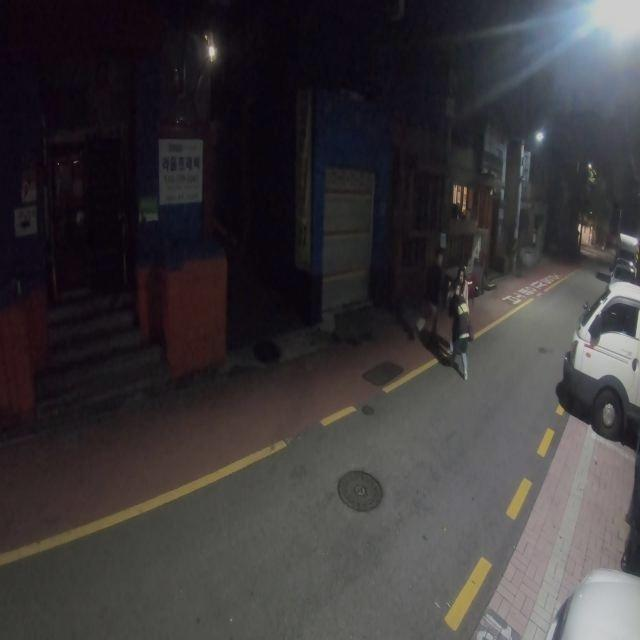fight: (445, 263, 473, 381)
non-fight: (417, 246, 450, 342)
